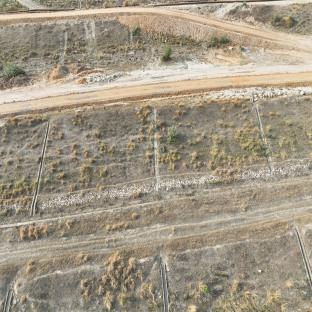rock_toe: (37, 179, 151, 213), (160, 164, 272, 197), (275, 158, 312, 182), (0, 199, 32, 219)
slope_drain: (254, 105, 279, 184), (30, 121, 50, 215), (152, 112, 159, 194)
toe_drain: (0, 197, 173, 231)
